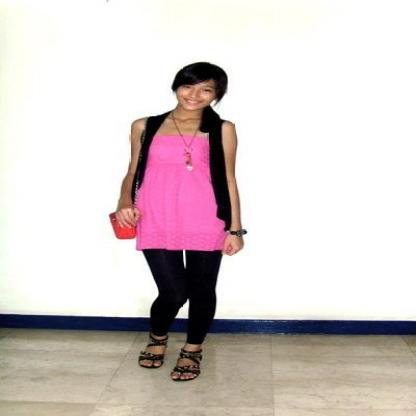bag: (109, 213, 136, 238)
dress: (135, 133, 226, 257)
jacket: (132, 108, 232, 224)
shoe: (138, 341, 201, 374)
